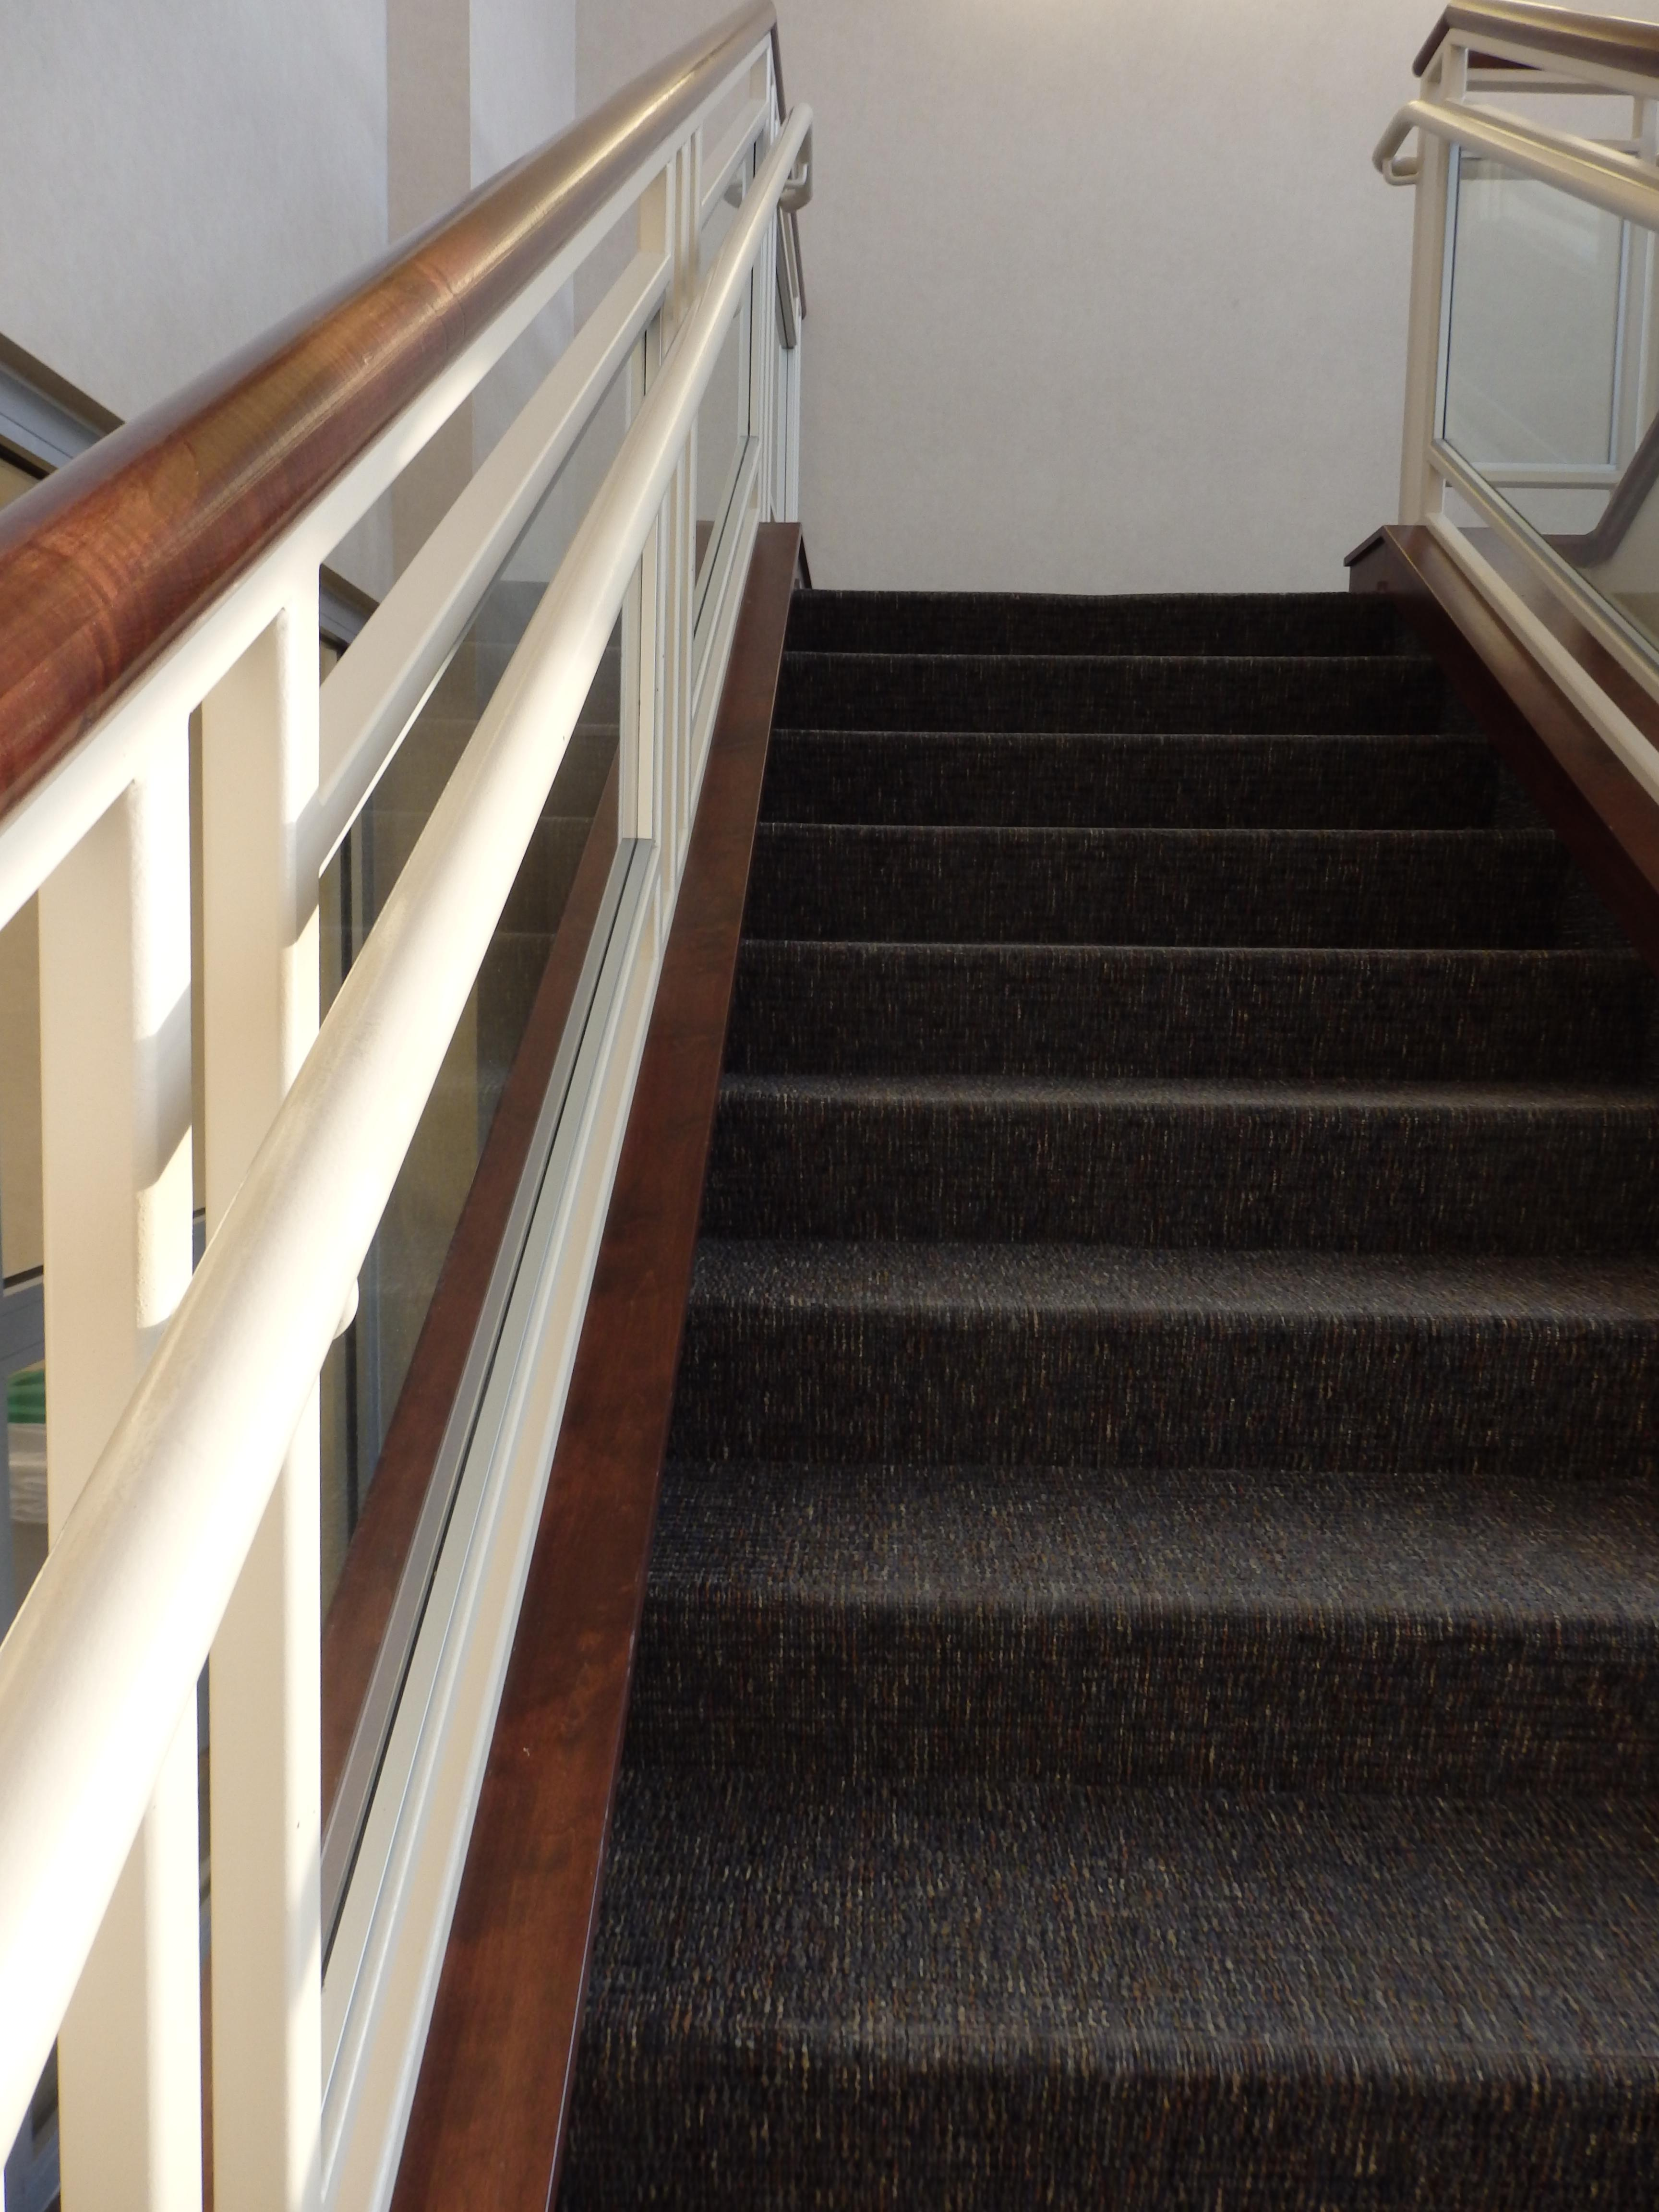stairs_up: (537, 587, 1659, 2141)
